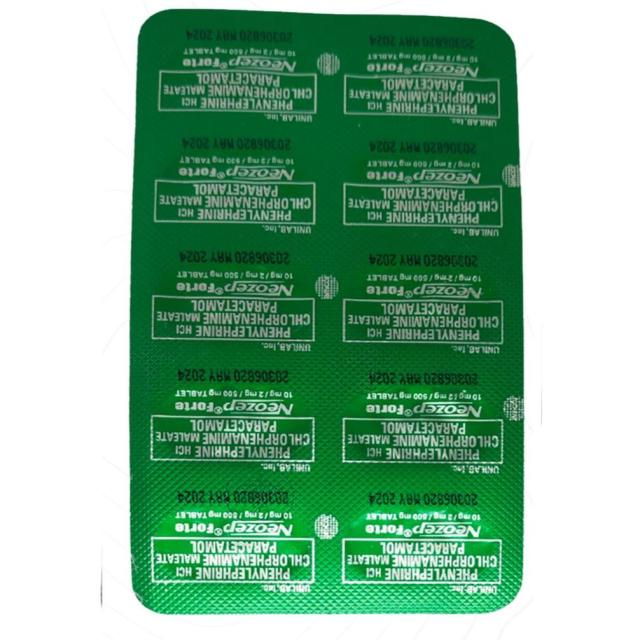blister: (128, 5, 530, 621)
